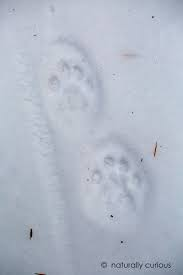cat: (85, 154, 146, 222), (49, 57, 94, 117)
